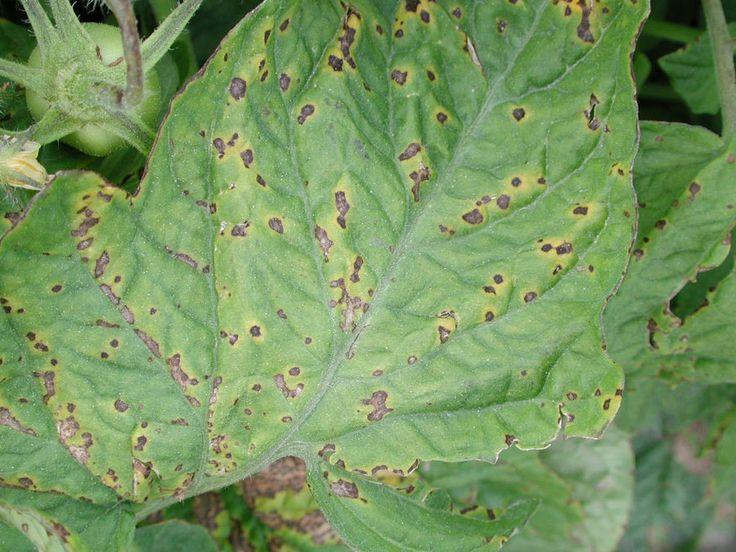Tomato leaf late blight: (11, 1, 682, 533)
